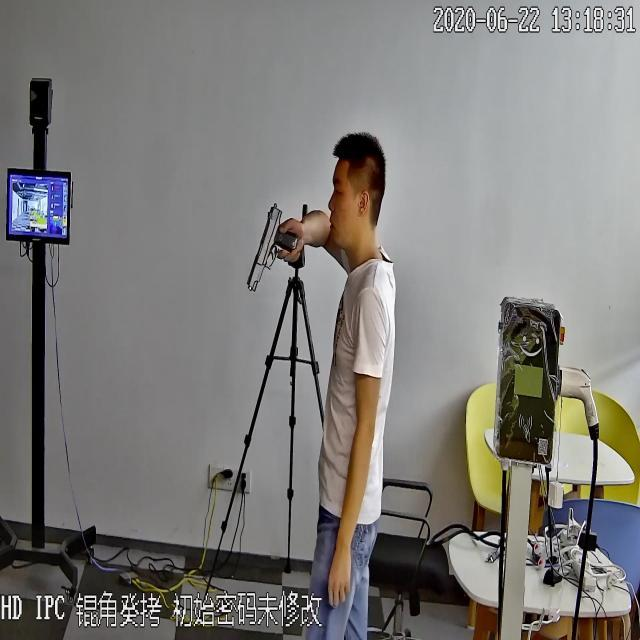gun-knife-thesis - v11 Yolov5 augmented: (246, 198, 302, 293)
